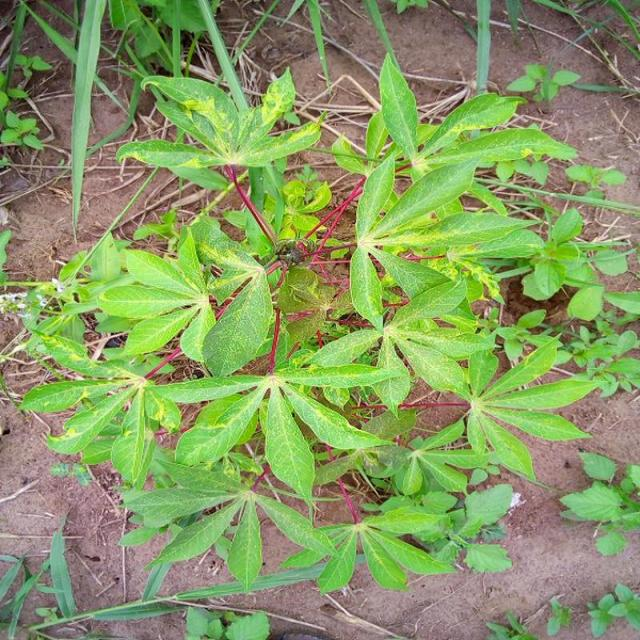cassava leaf: (11, 48, 627, 615)
